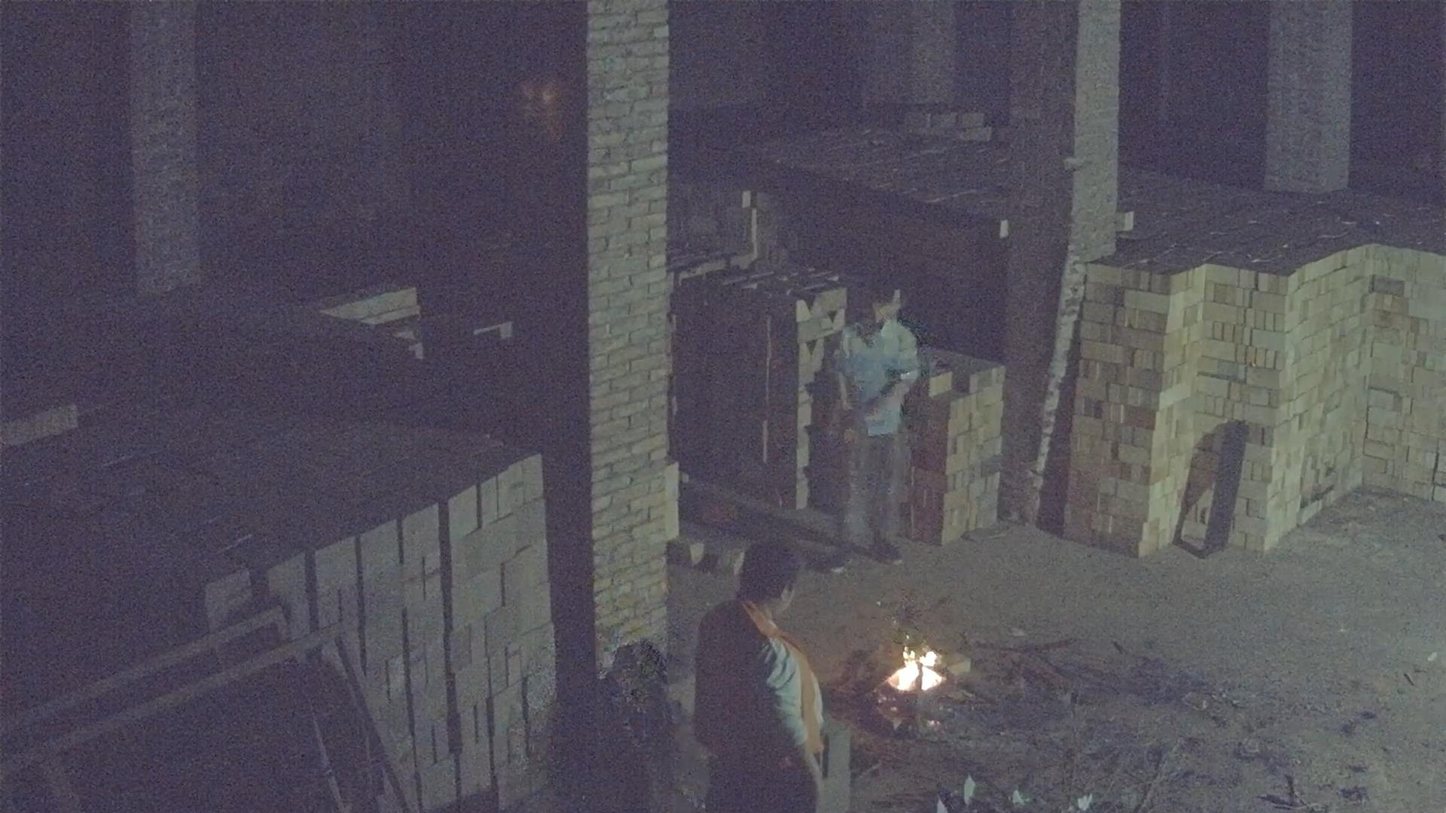fire: (887, 652, 944, 693)
